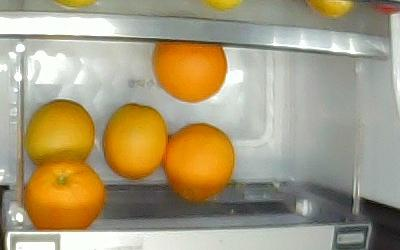orange: (164, 123, 236, 203), (24, 160, 106, 230), (102, 102, 167, 178), (152, 41, 227, 103), (26, 98, 95, 165)
